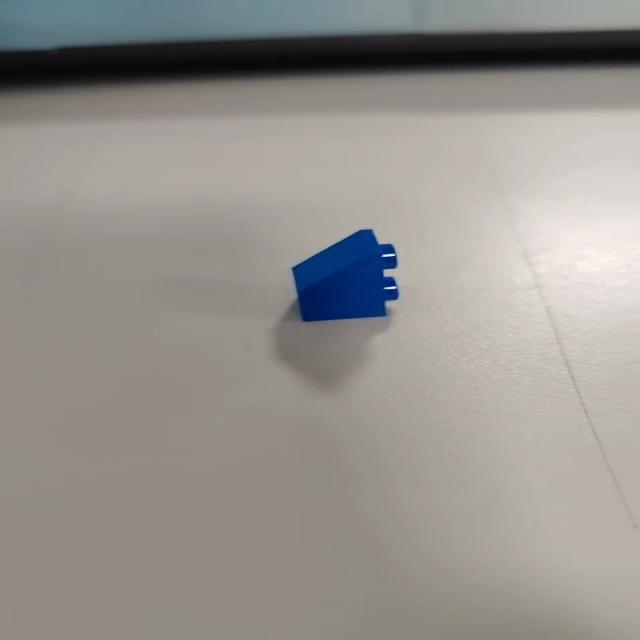X1x2x1: (281, 220, 419, 330)
